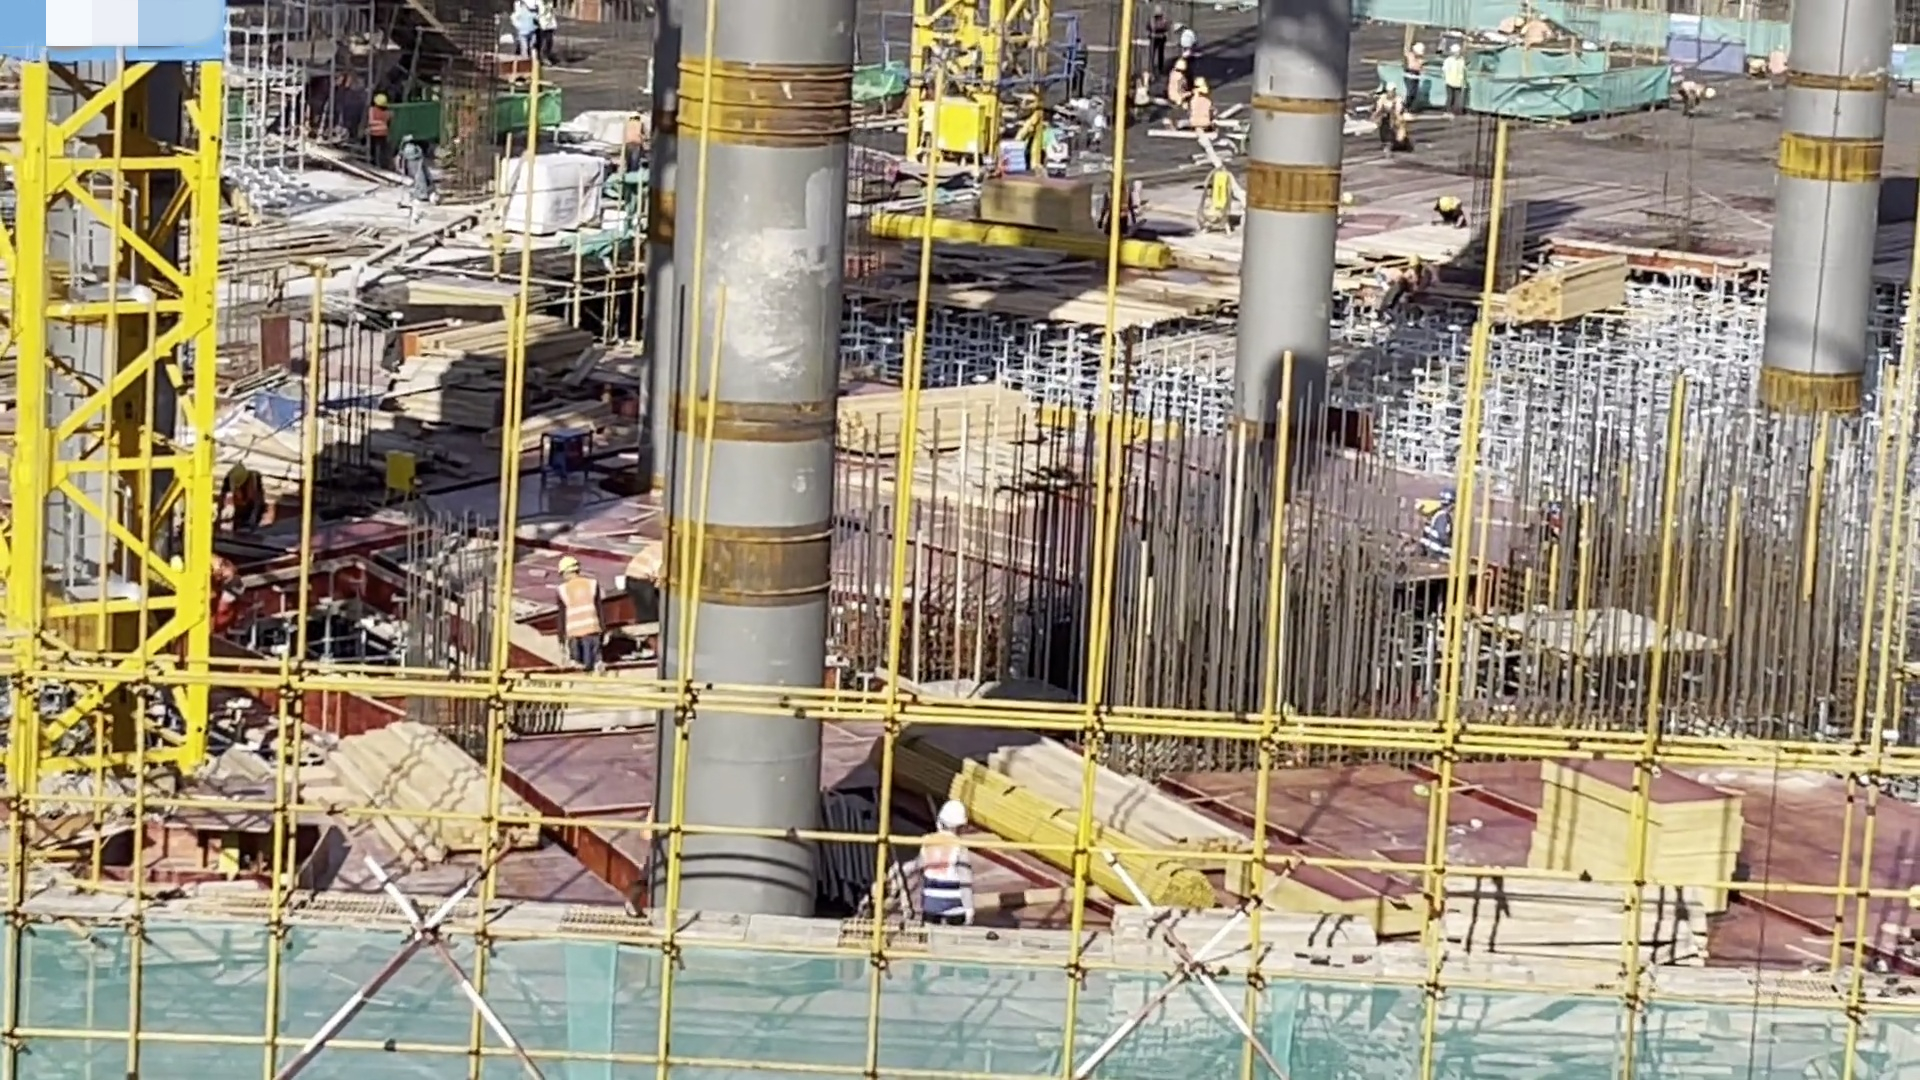helmet: (942, 800, 967, 827)
person: (920, 796, 978, 934), (547, 556, 601, 673), (620, 535, 671, 630), (217, 460, 264, 547), (1372, 83, 1413, 161), (1438, 44, 1474, 120), (1396, 35, 1431, 115), (1402, 255, 1439, 314), (1365, 260, 1403, 315), (1672, 73, 1716, 120), (1141, 1, 1165, 80), (1427, 190, 1468, 235), (1190, 74, 1214, 141), (1163, 57, 1185, 119), (1171, 21, 1198, 68)
vest: (920, 834, 967, 922), (552, 579, 600, 644), (626, 538, 664, 584)
